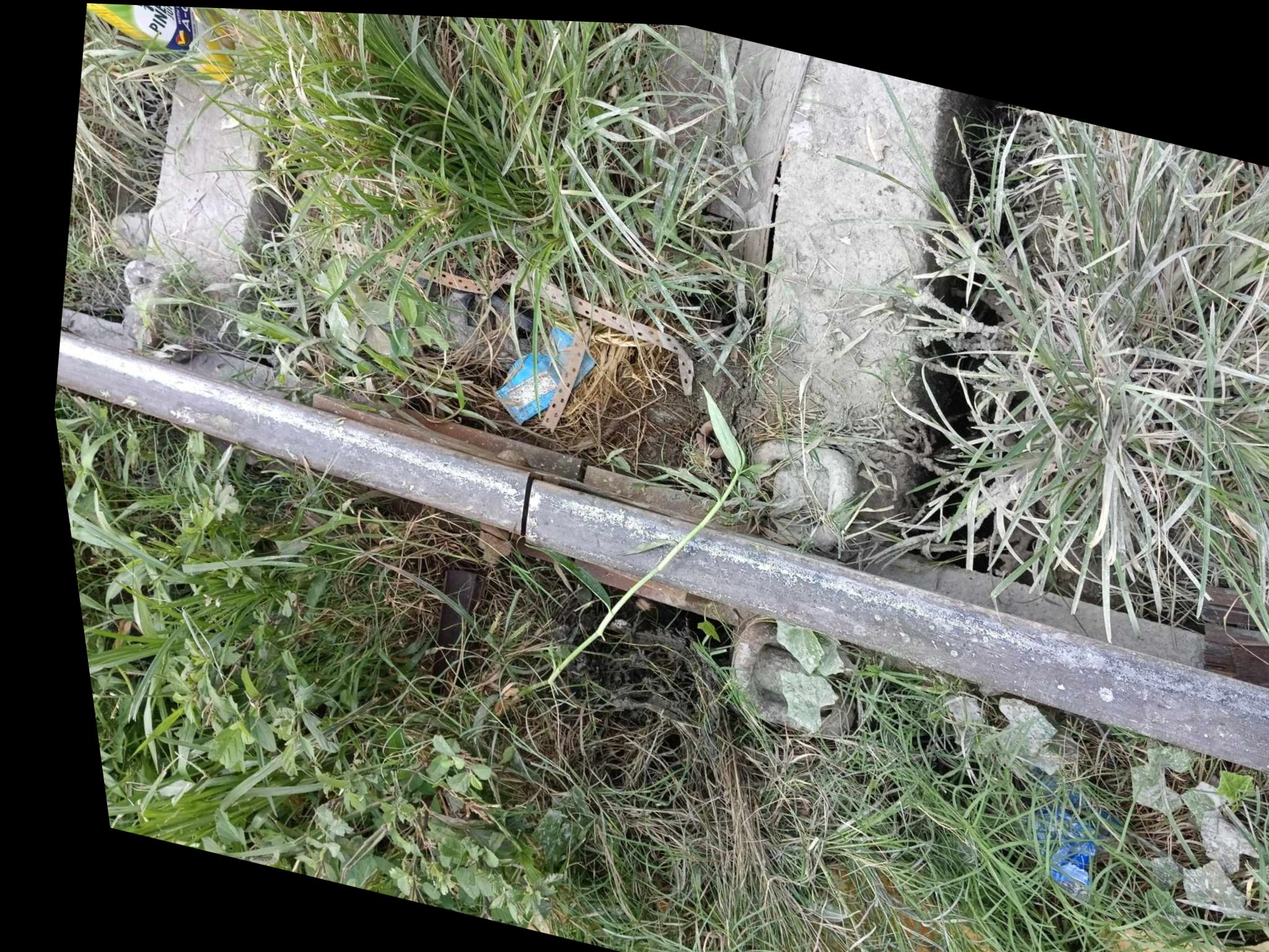person: (447, 449, 573, 570)
